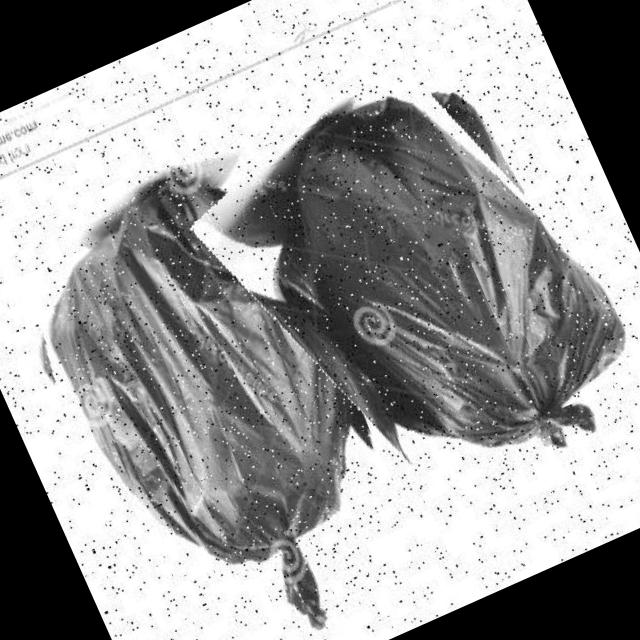KantongPlastik: (2, 142, 434, 640), (210, 41, 640, 535)
